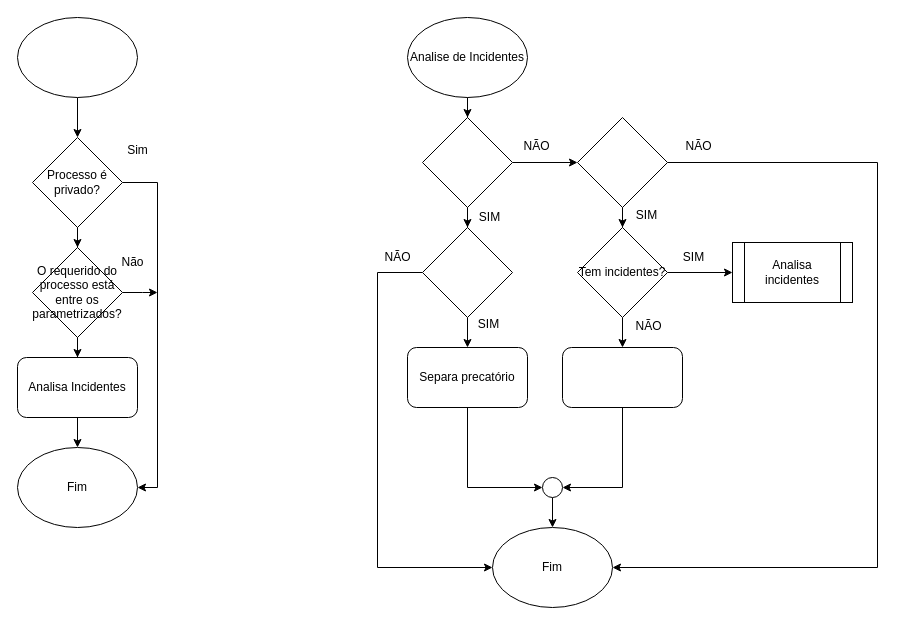
The diagram is 903 pixels wide and 625 high, and some of its shapes have lost their labels. Here are the shapes that lost their labels. From the top down, the centre of each, then its label:
the point at 77,57: Inicio
the point at 467,162: É precatório?
the point at 622,162: É cumprimento?
the point at 467,272: Precatório <> Arquivado e <> Extinto ?
the point at 622,377: Separa cumprimento
